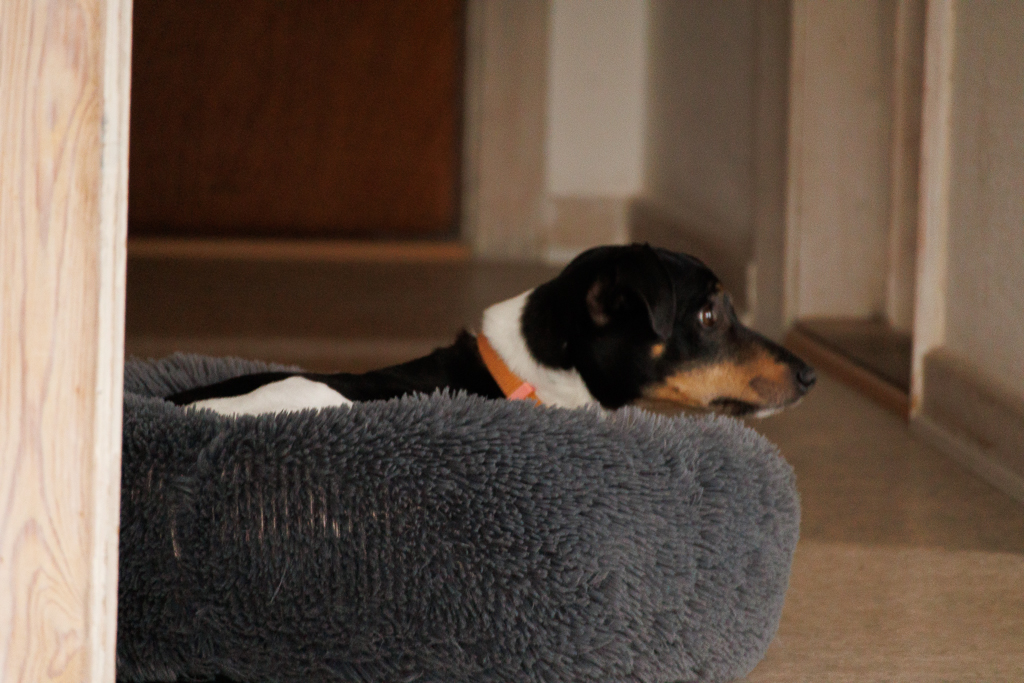Dog: (148, 237, 830, 439)
